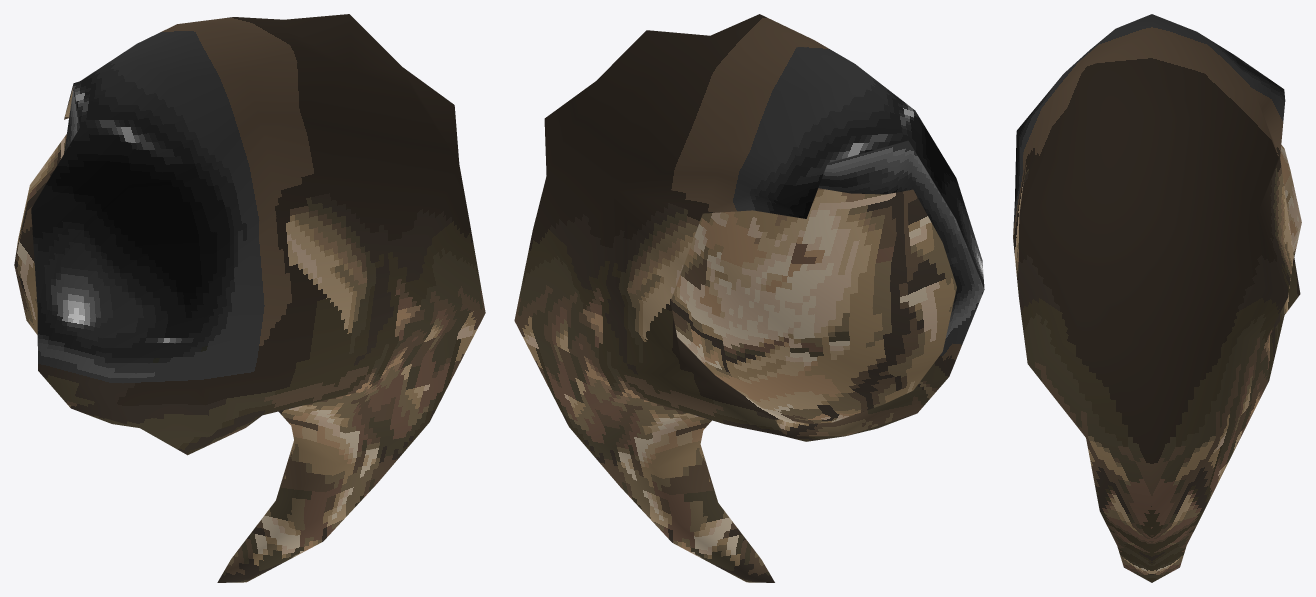
The model's file is ps2_save-icons_shadow-hearts.glb.
3 renders of one model, left to right at view 1: azimuth 30°, elevation 25°; view 2: azimuth 150°, elevation 25°; view 3: azimuth 270°, elevation 25°, orthographic. The views are drawn at different scales.
Parts seen in each view (by area): view 1: TALIS.ICO; view 2: TALIS.ICO; view 3: TALIS.ICO.
Part boxes in pixels (x1,y1,x2,y2): TALIS.ICO: (14, 14, 485, 582); TALIS.ICO: (514, 14, 984, 582); TALIS.ICO: (1013, 14, 1301, 582).
Bounding box in the file's own units: 3.35 × 3.98 × 1.98.
Materials: 1 (1 with a texture image).
